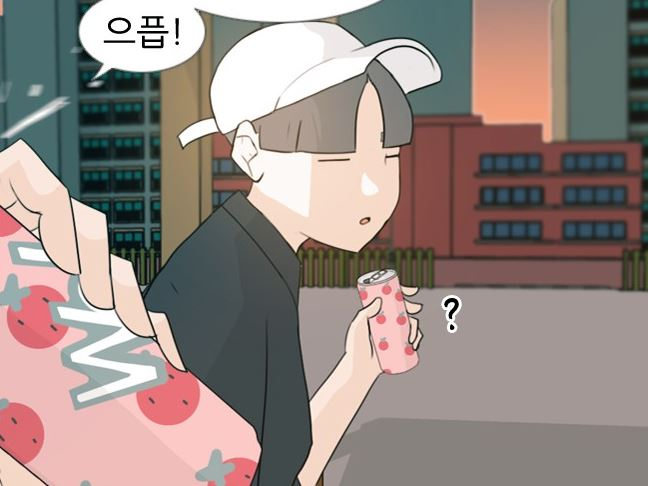hat: (210, 21, 445, 121)
